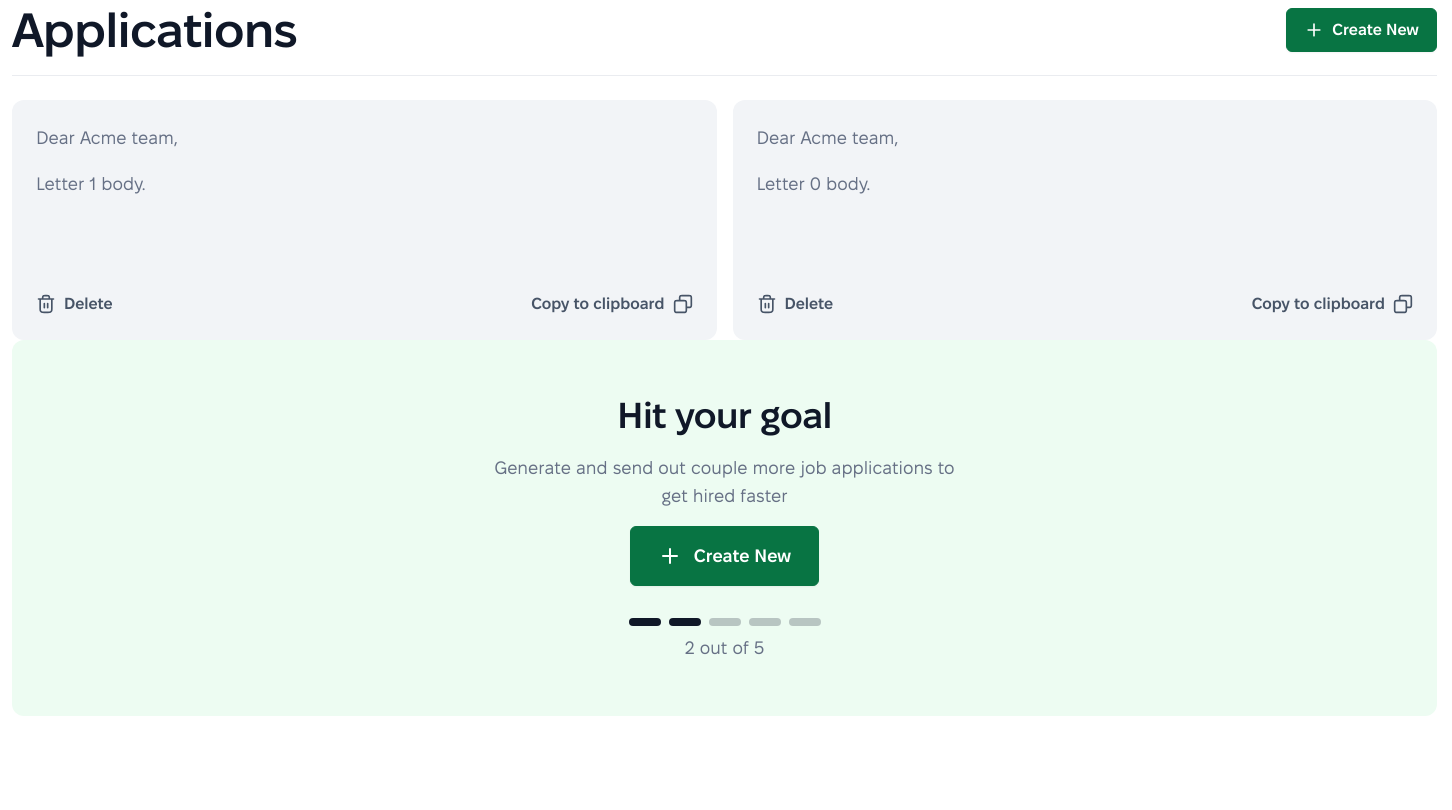
Scenario: DashboardPage › removes the card and shows a note when storage rejects the delete
The image size is (1452, 810).
Click the button "Delete" below "Letter 1 body.". click: (74,304)
box: [36,292,113,316]
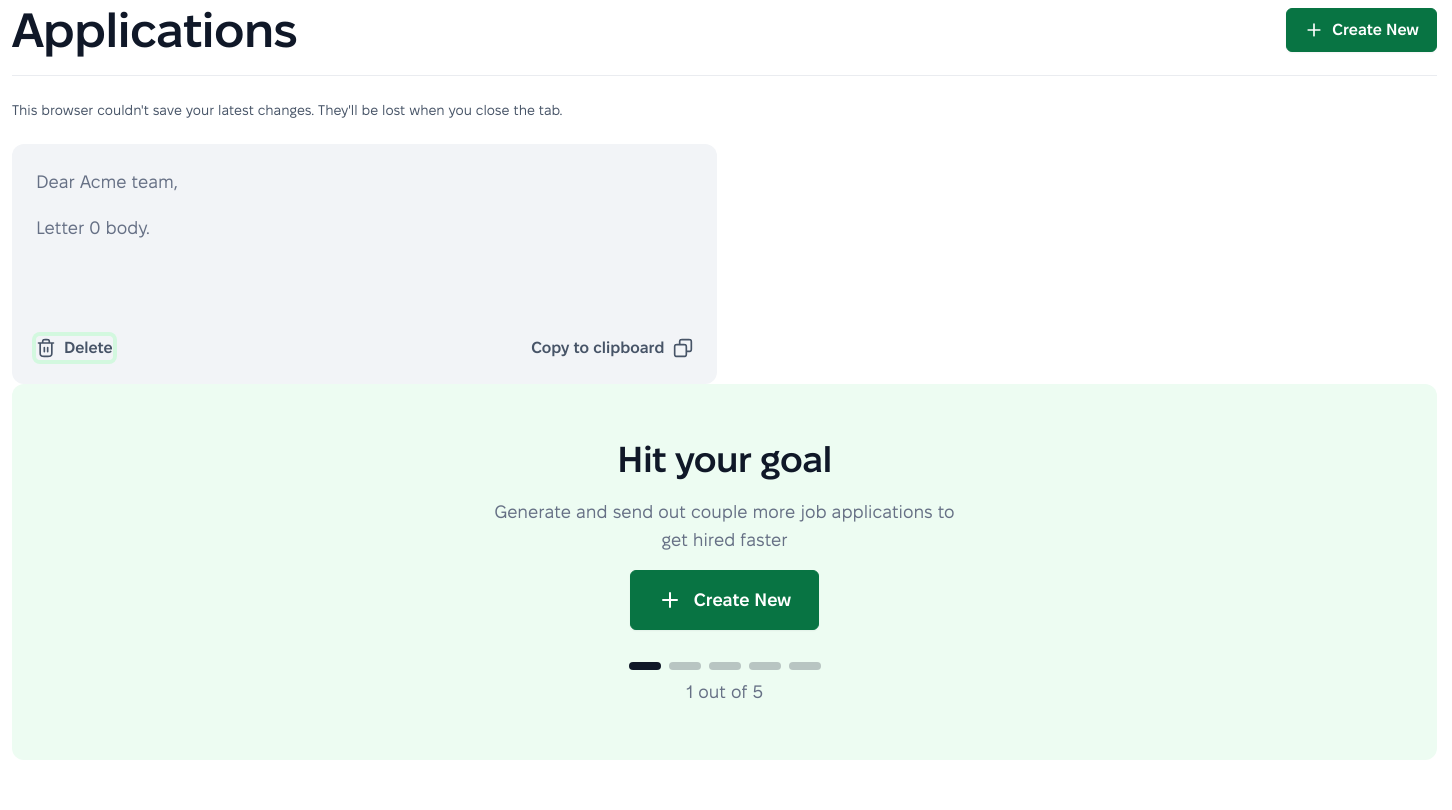
Result: the text "couldn't save your latest changes" is shown at [12,102,562,118]
